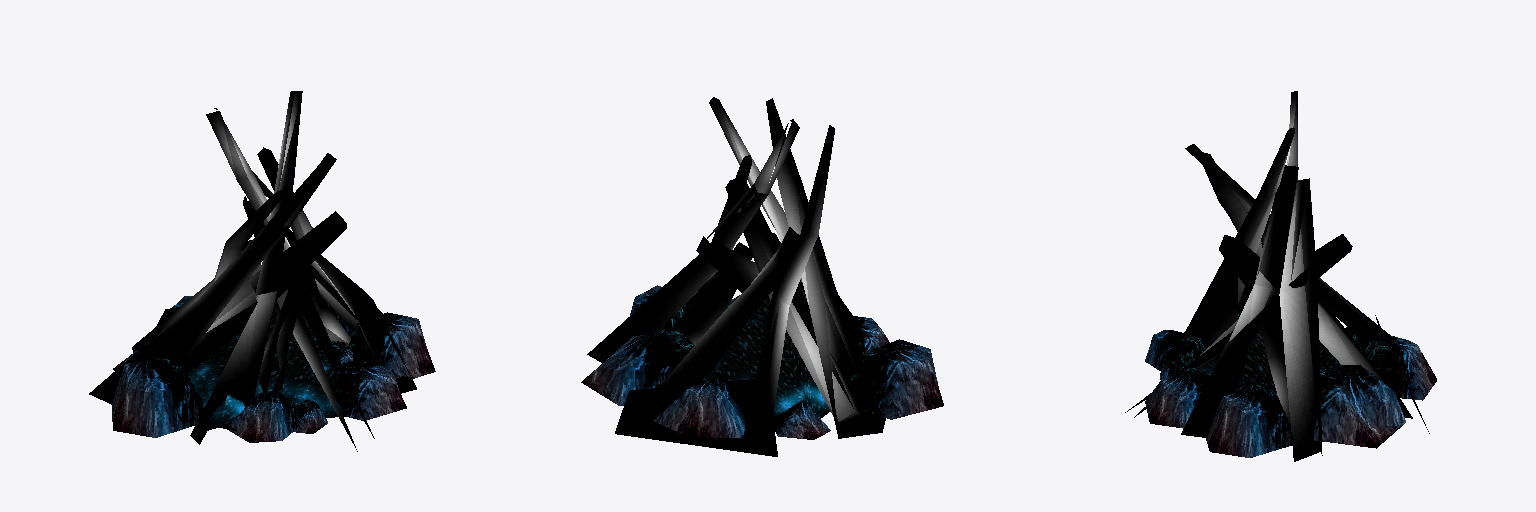
3 views of the same model, side by side, from view 1: azimuth 30°, elevation 25°; view 2: azimuth 150°, elevation 25°; view 3: azimuth 270°, elevation 25° (orthographic).
Parts seen in each view (by area): view 1: world/expansion02/doodads/generic/bonfire/bonfirenorthrend_01bl; view 2: world/expansion02/doodads/generic/bonfire/bonfirenorthrend_01bl; view 3: world/expansion02/doodads/generic/bonfire/bonfirenorthrend_01bl.
Part boxes in pixels (left/top/right/bottom): world/expansion02/doodads/generic/bonfire/bonfirenorthrend_01bl: left=89, top=91, right=435, bottom=451; world/expansion02/doodads/generic/bonfire/bonfirenorthrend_01bl: left=581, top=97, right=943, bottom=456; world/expansion02/doodads/generic/bonfire/bonfirenorthrend_01bl: left=1125, top=91, right=1436, bottom=461.
Bounding box in the file's own units: 4.81 × 4.31 × 4.11.
Materials: 3 (2 with a texture image).